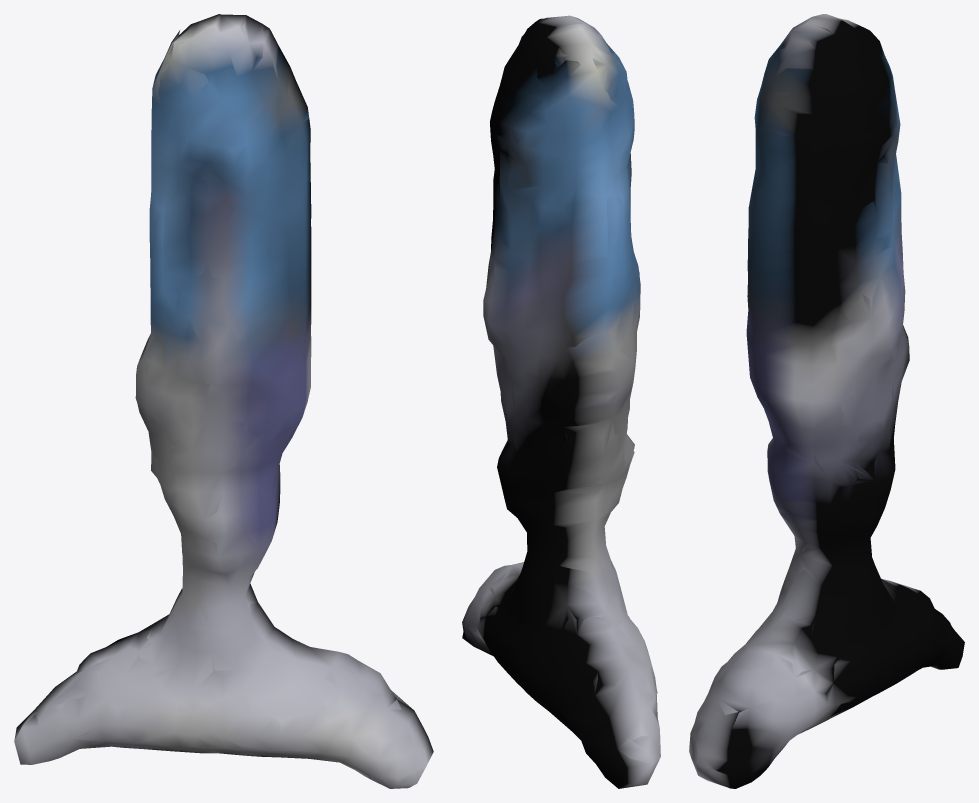
The model's file is dolphin.glb.
The picture shows the model from 3 angles, left to right: view 1: azimuth 30°, elevation 25°; view 2: azimuth 150°, elevation 25°; view 3: azimuth 270°, elevation 25°; orthographic projection. The views are drawn at different scales.
Parts seen in each view (by area): view 1: dolphin; view 2: dolphin; view 3: dolphin.
Boxes of the visible parts, left/top/right/bottom form: dolphin: left=14, top=14, right=433, bottom=788; dolphin: left=462, top=15, right=660, bottom=788; dolphin: left=689, top=14, right=964, bottom=788.
Bounding box in the file's own units: 0.9385 × 2.22 × 0.7815.
